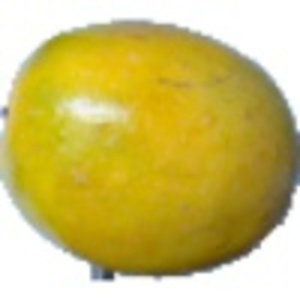maracujá: (1, 1, 300, 283)
